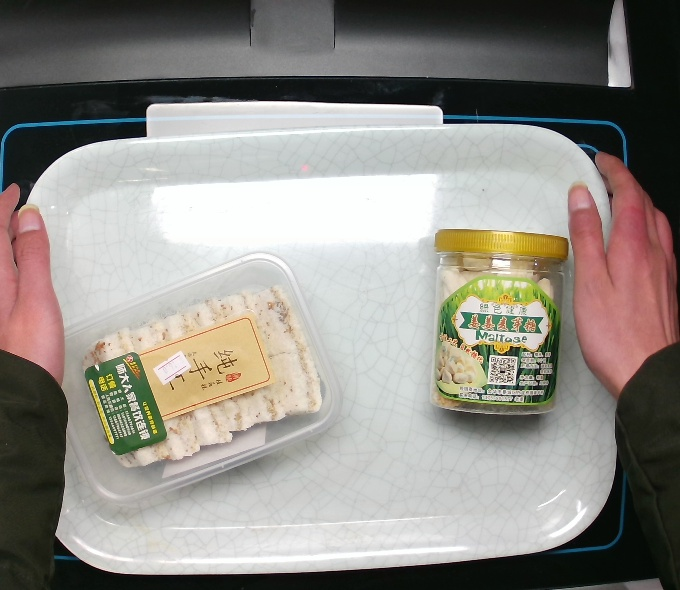wcq-GuiHuaGao: (48, 250, 338, 507)
wcq-MaiYaTang: (424, 222, 572, 420)
